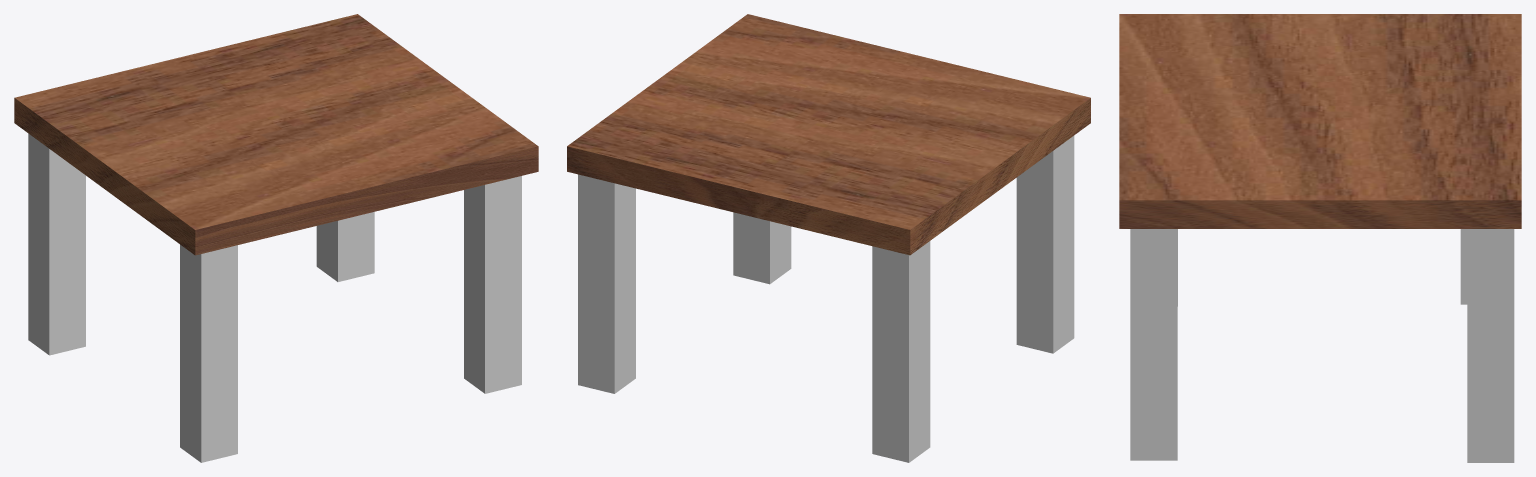
Rendered from Table.glb.
3 renders of one model, left to right at view 1: azimuth 30°, elevation 25°; view 2: azimuth 150°, elevation 25°; view 3: azimuth 270°, elevation 25°, orthographic. The views are drawn at different scales.
Visible parts, largest first — view 1: Object, Cube, Cube.002, Cube.001, Cube.003; view 2: Object, Cube.001, Cube.003, Cube, Cube.002; view 3: Object, Cube.003, Cube.002, Cube.001.
Boxes of the visible parts, bbox=[...] form: Object: bbox=[14, 14, 538, 255]; Cube: bbox=[180, 244, 237, 462]; Cube.002: bbox=[464, 176, 521, 393]; Cube.001: bbox=[28, 133, 85, 355]; Cube.003: bbox=[316, 212, 374, 281]; Object: bbox=[567, 14, 1090, 255]; Cube.001: bbox=[872, 241, 930, 462]; Cube.003: bbox=[578, 174, 635, 393]; Cube: bbox=[1016, 135, 1074, 353]; Cube.002: bbox=[733, 212, 791, 284]; Object: bbox=[1119, 14, 1521, 228]; Cube.003: bbox=[1467, 229, 1514, 462]; Cube.002: bbox=[1130, 229, 1177, 460]; Cube.001: bbox=[1460, 229, 1467, 304].
Size of the model in its own units: 88.24 by 58.83 by 80.49.
2 materials, 1 textured.
